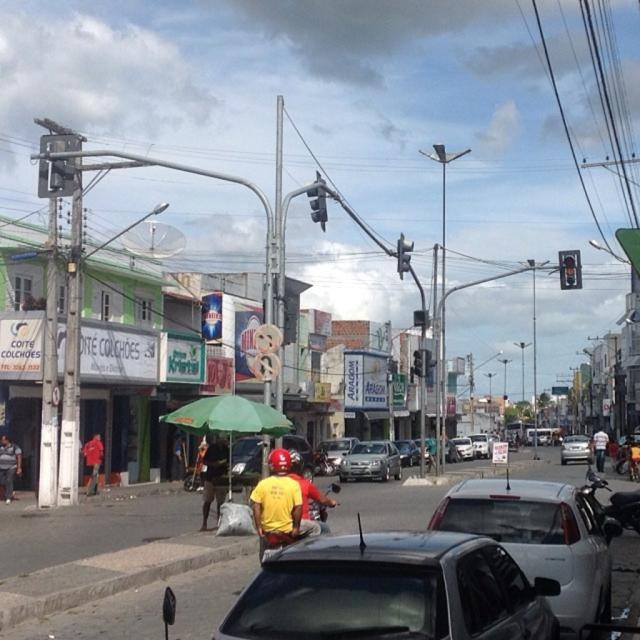off traffic light: (306, 176, 331, 225), (396, 233, 414, 274)
traffic light: (562, 251, 578, 290), (414, 349, 423, 376)
